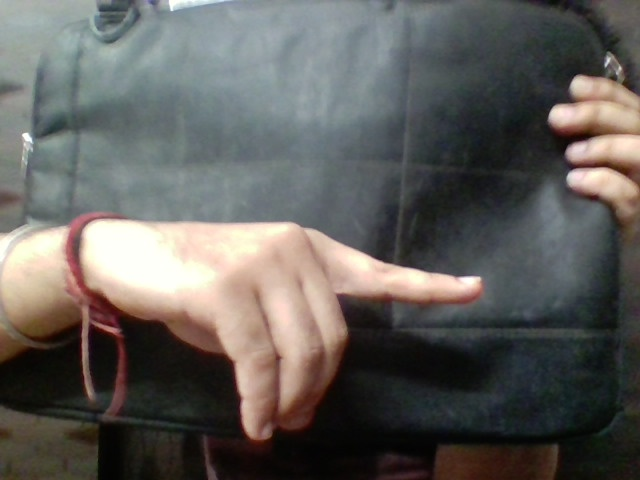p: (102, 187, 513, 439)
